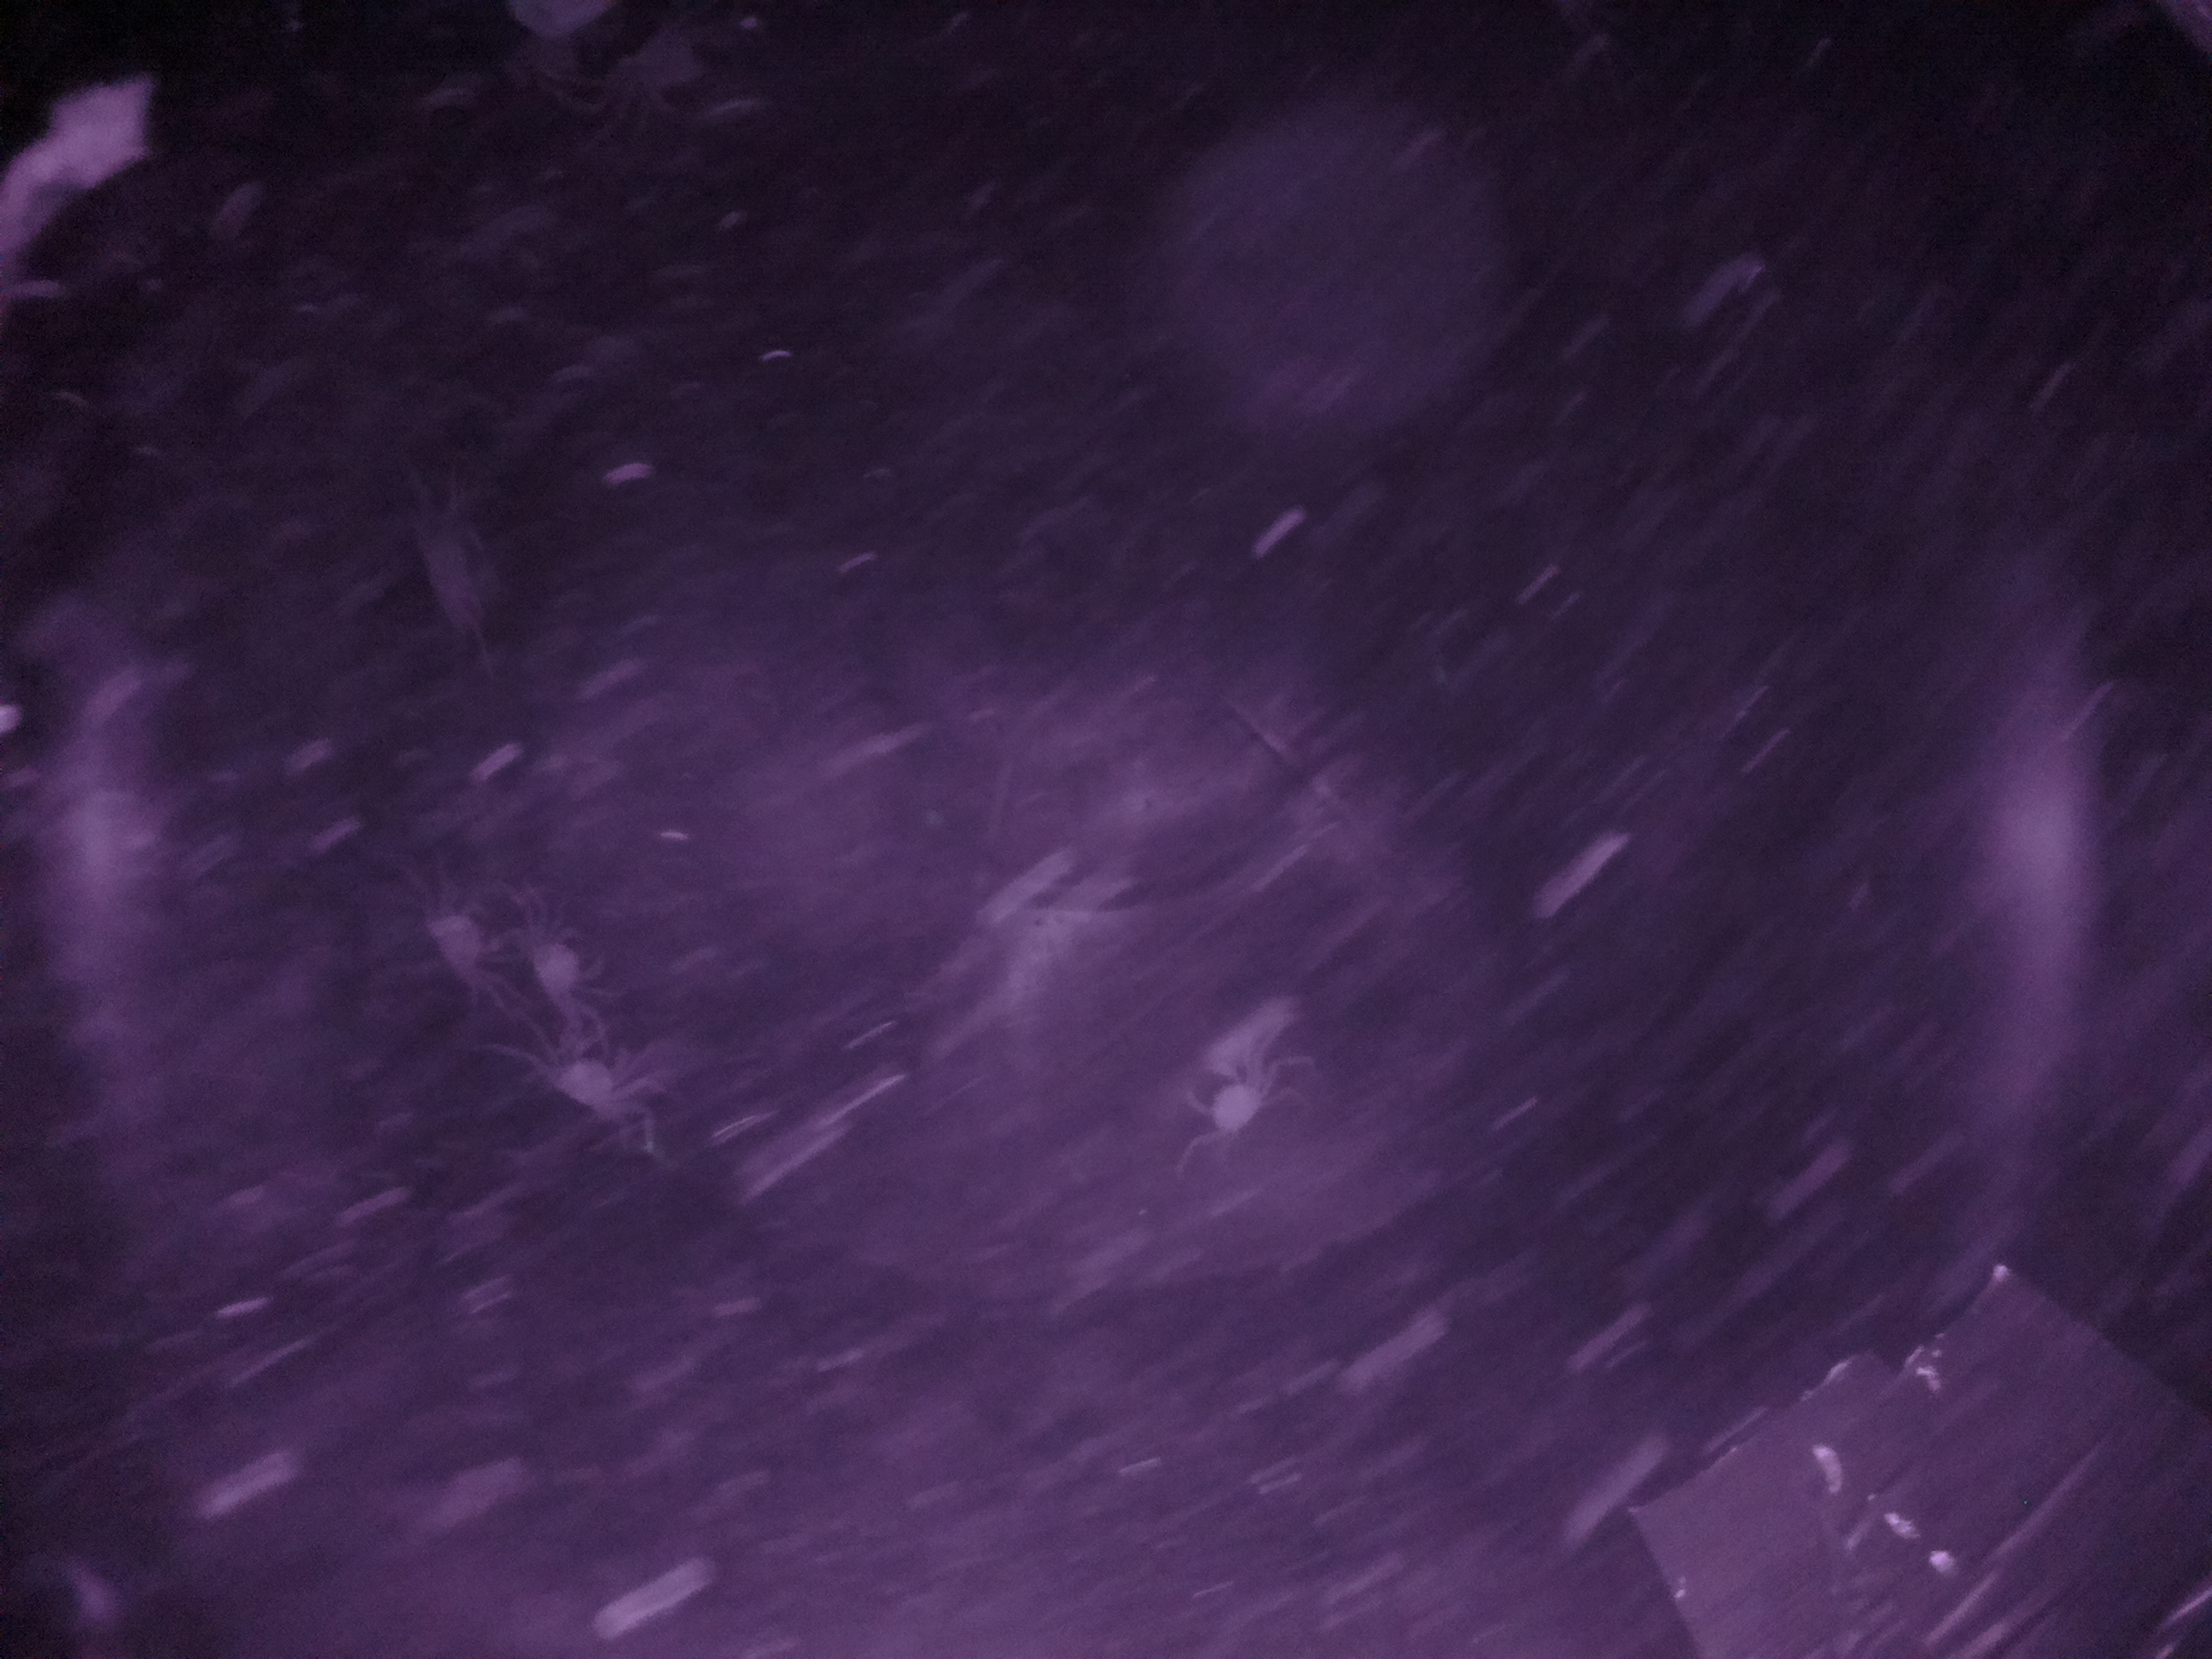Crab: (1146, 1047, 1303, 1164), (512, 911, 627, 1026), (538, 1019, 643, 1141)
